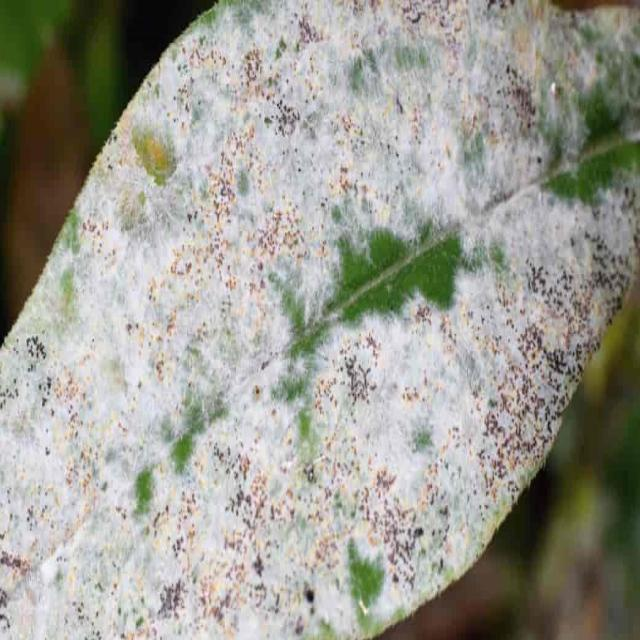Bacterial Blight: (129, 122, 178, 193)
Powdery mildew: (2, 3, 636, 636)
